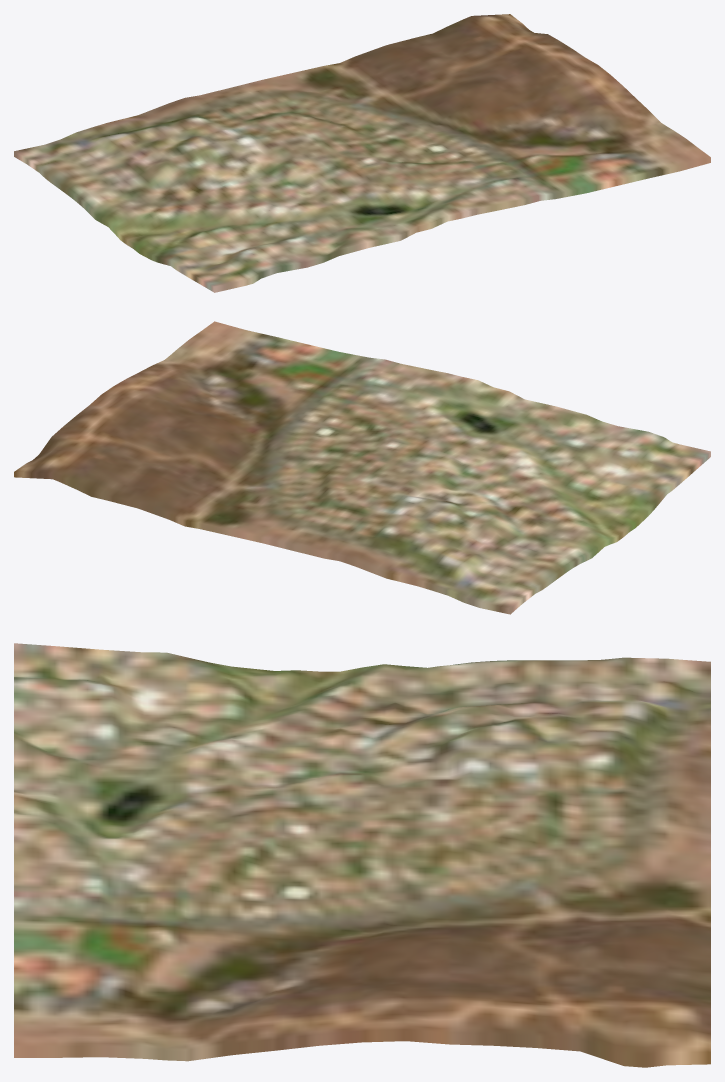
Rendered from terrain_r2_c2_lod2.glb.
3 renders of one model, top to bottom at view 1: azimuth 30°, elevation 25°; view 2: azimuth 150°, elevation 25°; view 3: azimuth 270°, elevation 25°, orthographic. The views are drawn at different scales.
Visible parts, largest first — view 1: terrain_r2_c2_lod2; view 2: terrain_r2_c2_lod2; view 3: terrain_r2_c2_lod2.
Part boxes in pixels (left/top/right/bottom): terrain_r2_c2_lod2: left=14, top=14, right=710, bottom=292; terrain_r2_c2_lod2: left=14, top=321, right=710, bottom=614; terrain_r2_c2_lod2: left=14, top=643, right=710, bottom=1067.
Size of the model in its own units: 1125 by 94.69 by 787.
Materials: 1 (1 with a texture image).
